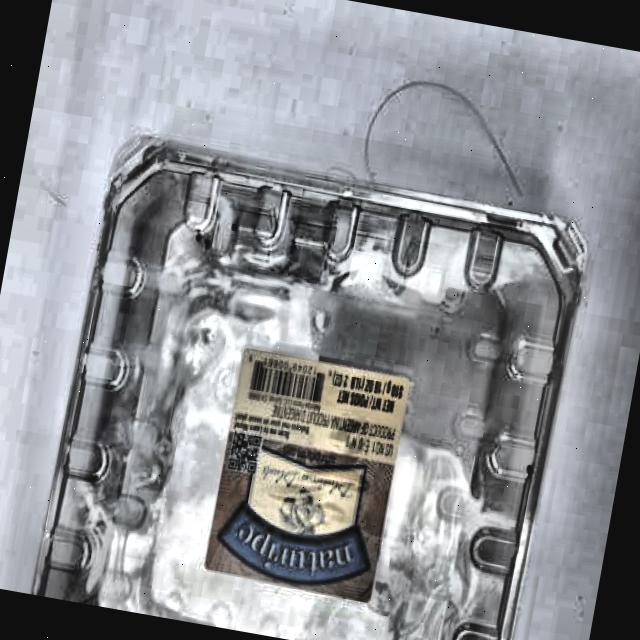plastic: (23, 116, 602, 640)
